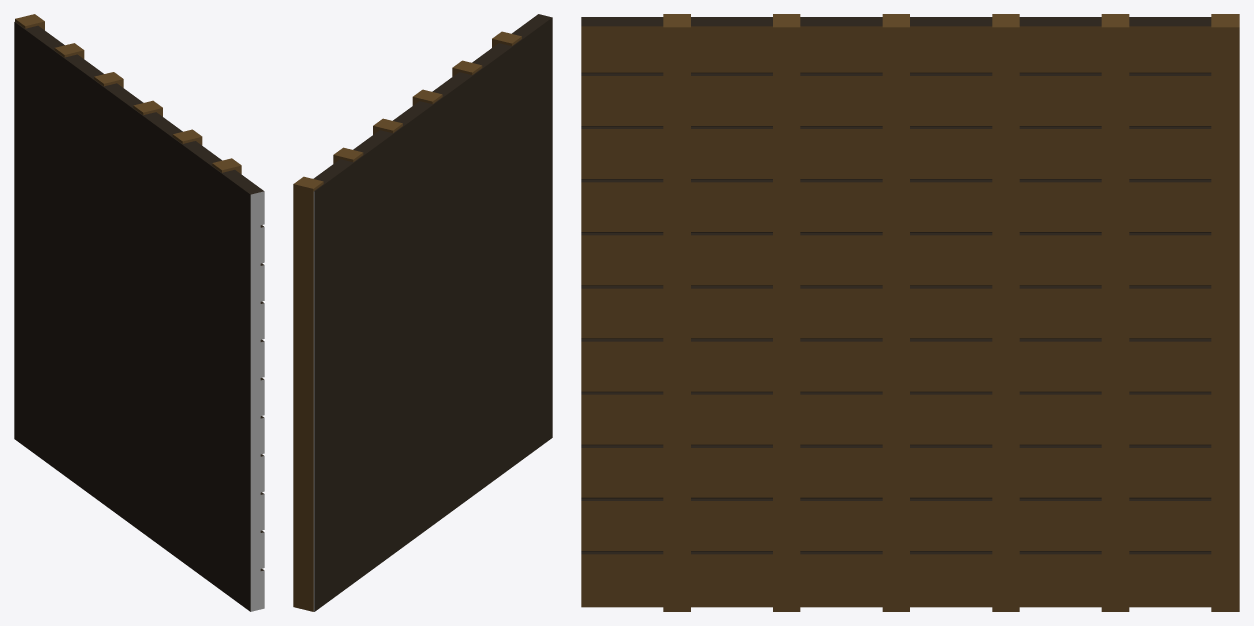
The model's file is Pared_Sin_Ventana.fbx.
The picture shows the model from 3 angles, left to right: view 1: azimuth 30°, elevation 25°; view 2: azimuth 150°, elevation 25°; view 3: azimuth 270°, elevation 25°; orthographic projection. The views are drawn at different scales.
Parts seen in each view (by area): view 1: pCube84; view 2: pCube84; view 3: pCube84.
Boxes of the visible parts, x1,y1,x2,y2 form: pCube84: (14, 14, 264, 611); pCube84: (293, 14, 552, 611); pCube84: (581, 14, 1239, 611).
Size of the model in its own units: 1.4 by 27.17 by 27.72.
